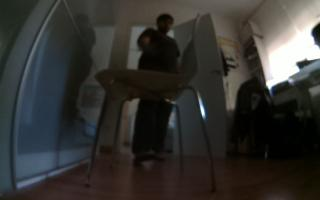person: (130, 12, 184, 176)
